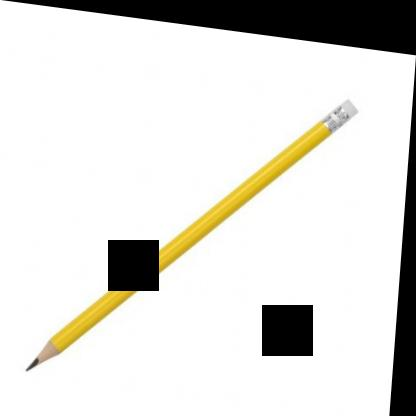pencil: (27, 87, 362, 372)
